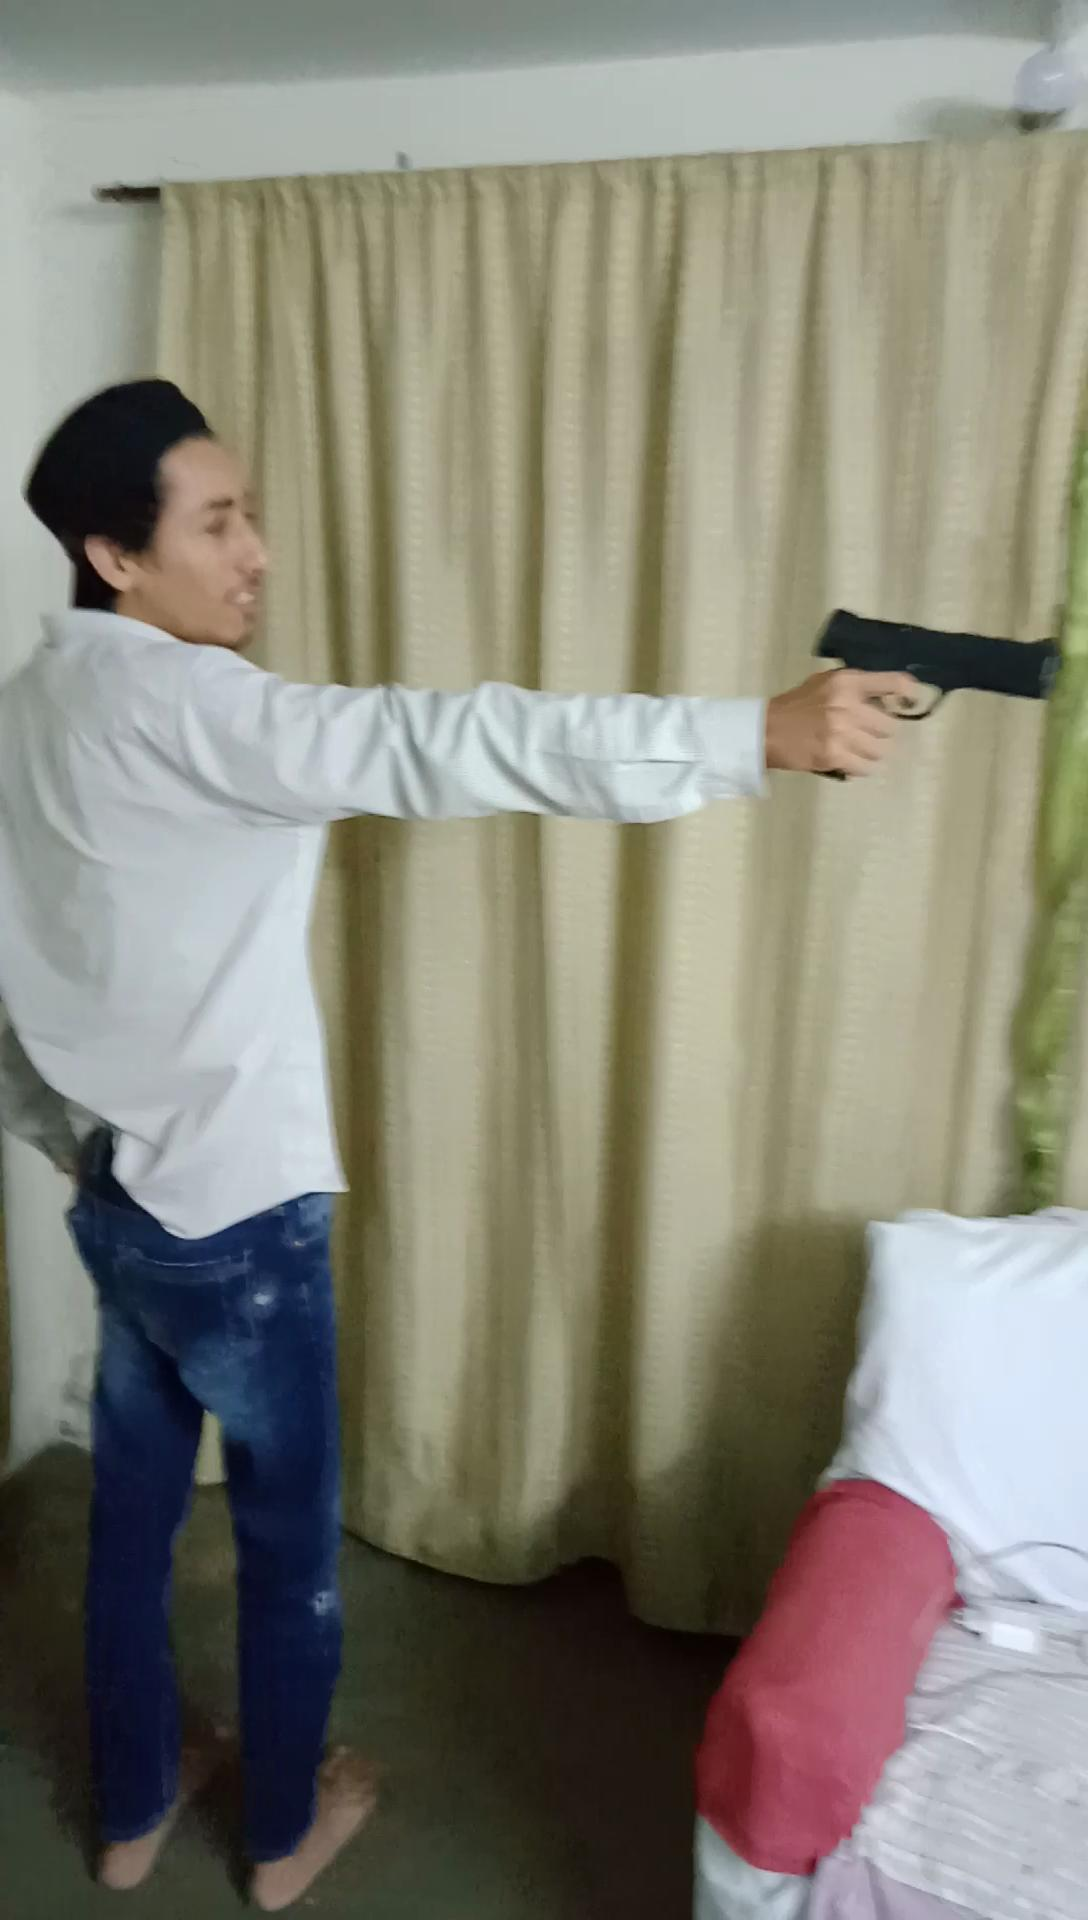criminal: (0, 367, 1076, 1920)
weapon: (783, 596, 1076, 793)
